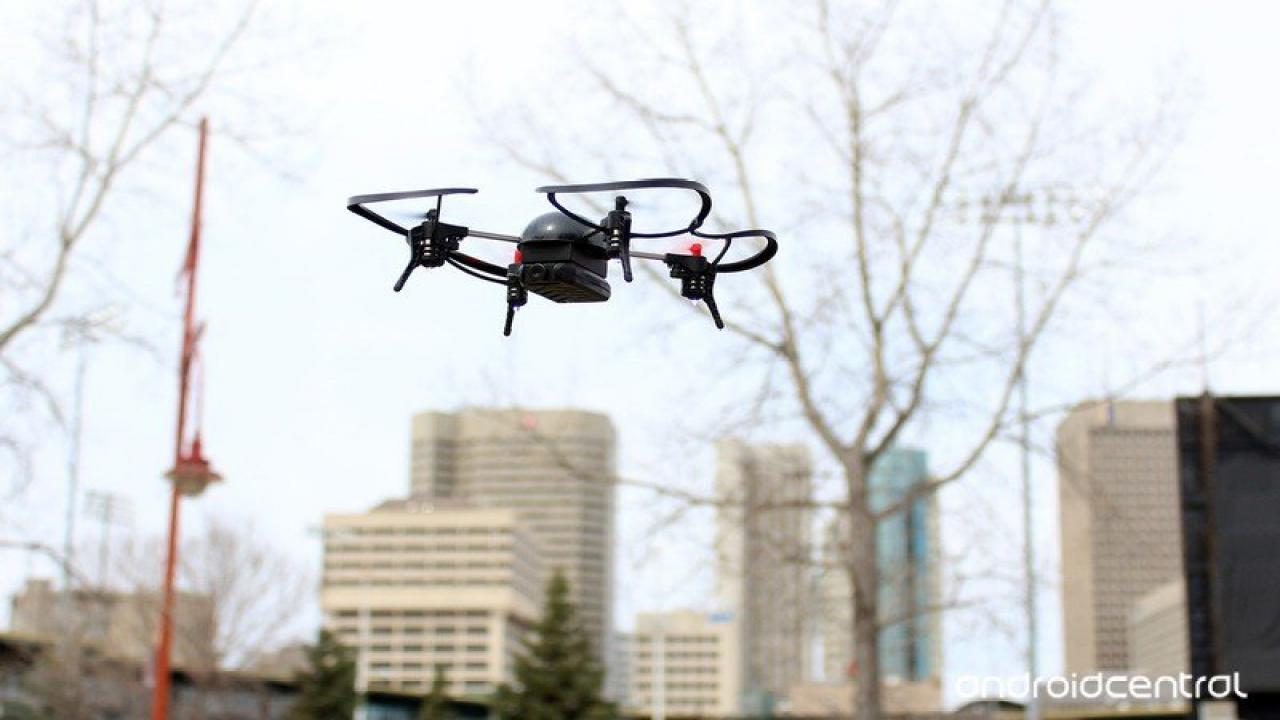Drone: (323, 145, 802, 356)
